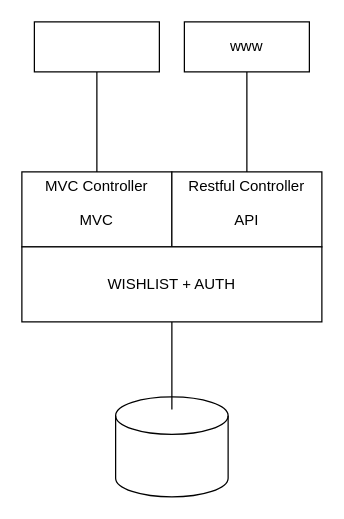
This 344x519 diagram has some shape labels left out. The shapes that lost their labels are listed below. From the top down, each one's centre as x and y in pixels, then its label:
At [96,46]: "admin".
At [171,446]: "ANTIOPE".
